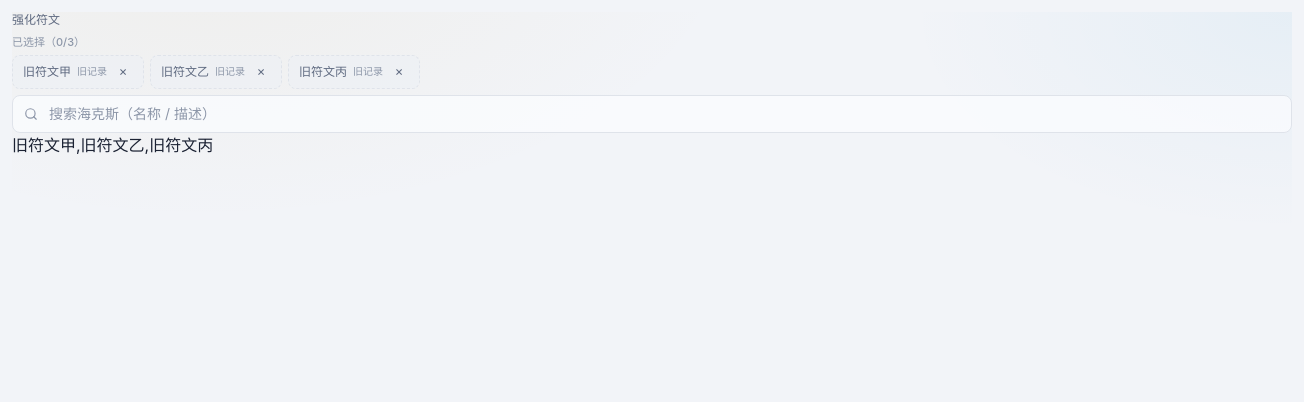
AugmentSelector › does not count legacy text against the three-augment cap
# the cap is measured on canonical ids only, so picking is still possible
Step 1. Focus the dropdown labelled "强化符文" → (652, 114), box [12,94,1292,132]
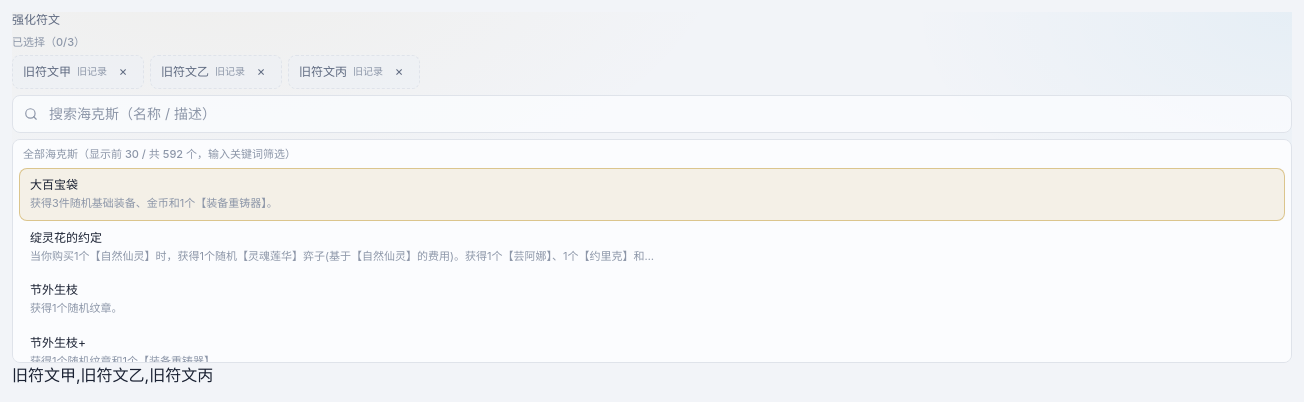
Step 2. Click the button "大百宝袋 获得3件随机基础装备、金币和1个【装备重铸器】。" → (54, 184), box [19,168,1285,220]
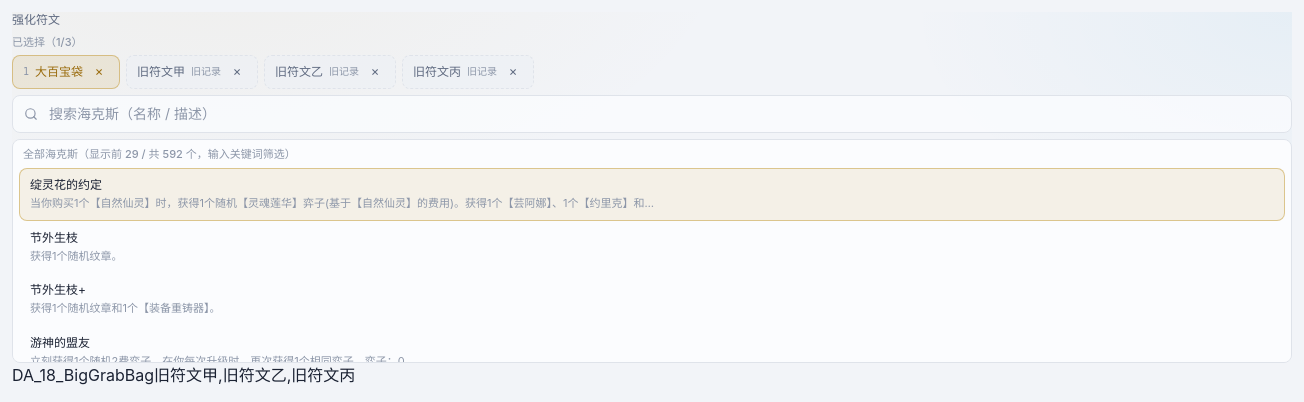
Expected: the text with test id "legacy" reads "旧符文甲,旧符文乙,旧符文丙", [154,364,355,384]
Now the text with test id "value" reads "DA_18_BigGrabBag", box [12,364,154,384]
